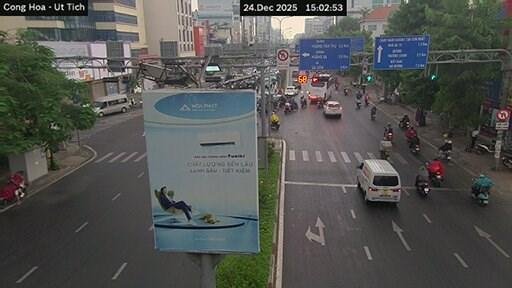motorbike: (0, 173, 25, 202), (471, 179, 489, 206), (475, 140, 495, 154), (416, 180, 431, 196), (429, 171, 443, 186), (284, 102, 297, 113), (502, 152, 511, 167), (439, 150, 451, 161), (408, 142, 419, 153), (399, 121, 411, 130), (384, 129, 393, 140), (380, 150, 389, 159), (270, 121, 279, 129), (300, 98, 307, 107), (317, 99, 323, 108), (370, 110, 375, 120), (356, 100, 361, 109), (365, 97, 369, 106), (344, 88, 348, 95)
